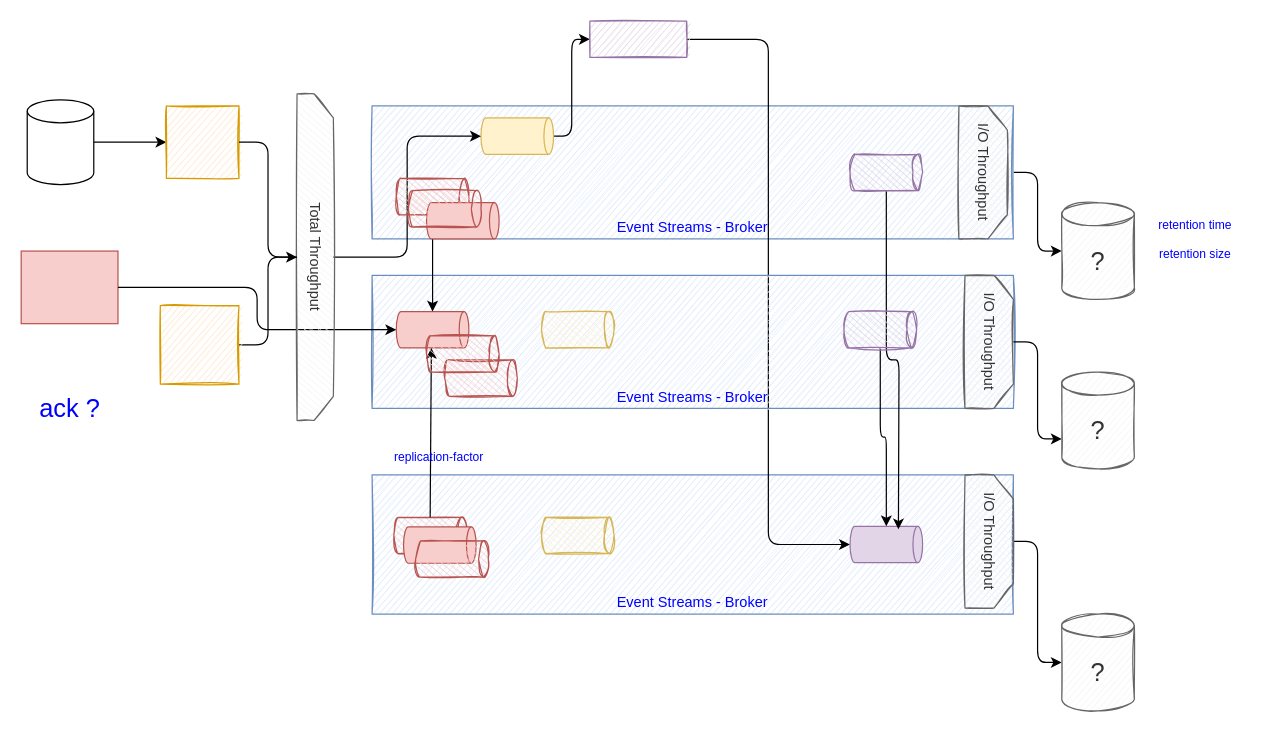
Image size: 1264x732. Some labels were removed from this diagram. Here are the shapes that lost their labels. From the top down, the centre of each, then its label:
At [638,38]: "Streaming apps".
At [202,141]: "Change Data Capture".
At [69,287]: "Microservice Apps".
At [199,344]: "Kafka Source Connector".
